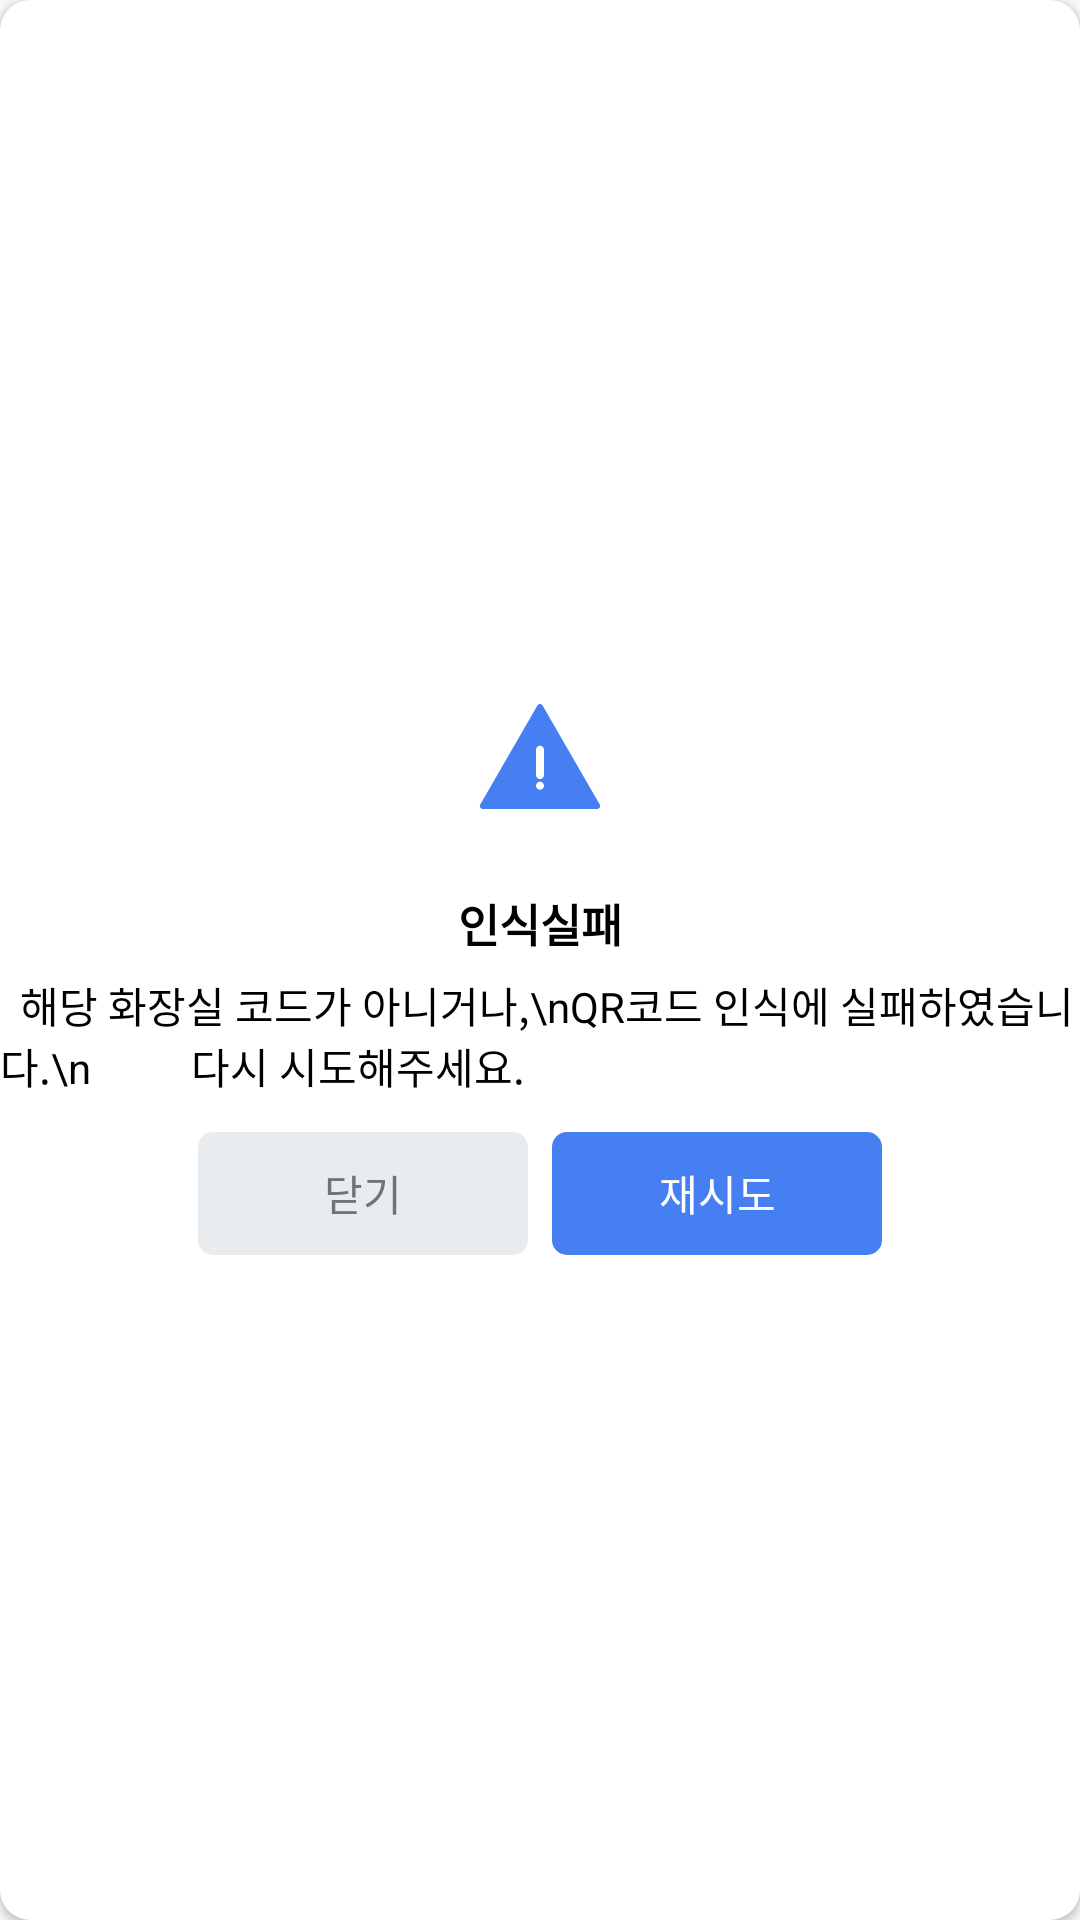

Icons on this 1080 × 1920 Android screen, each with the point to tap as (x=x, y=y):
warning: (x=540, y=756)
